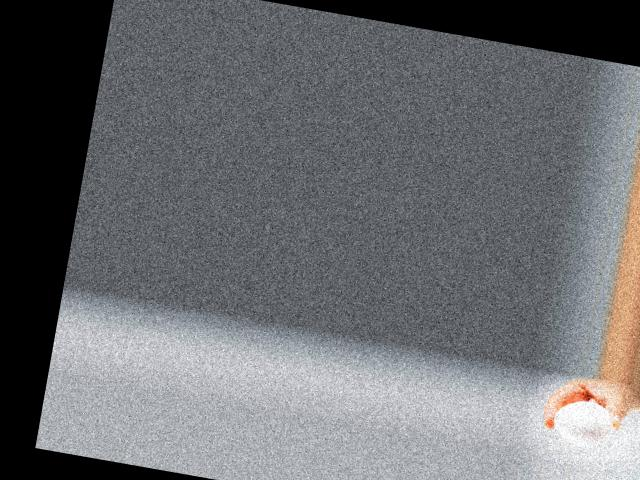egg: (549, 397, 615, 449)
